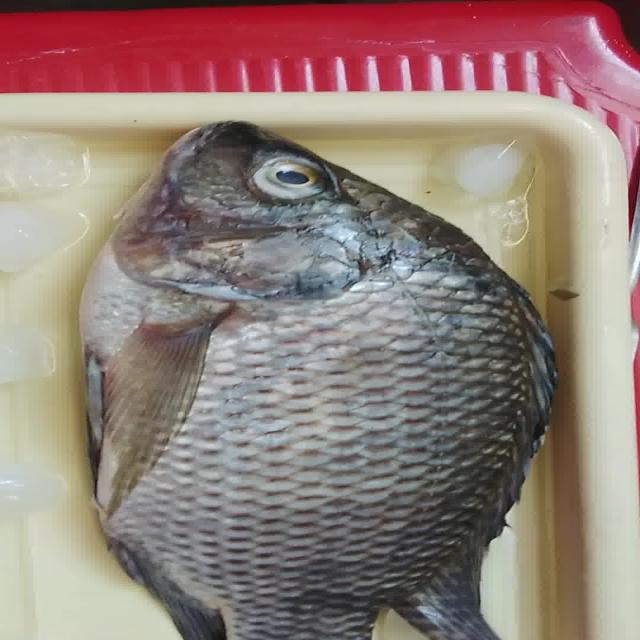Fresh: (89, 219, 542, 567), (239, 154, 346, 208)
